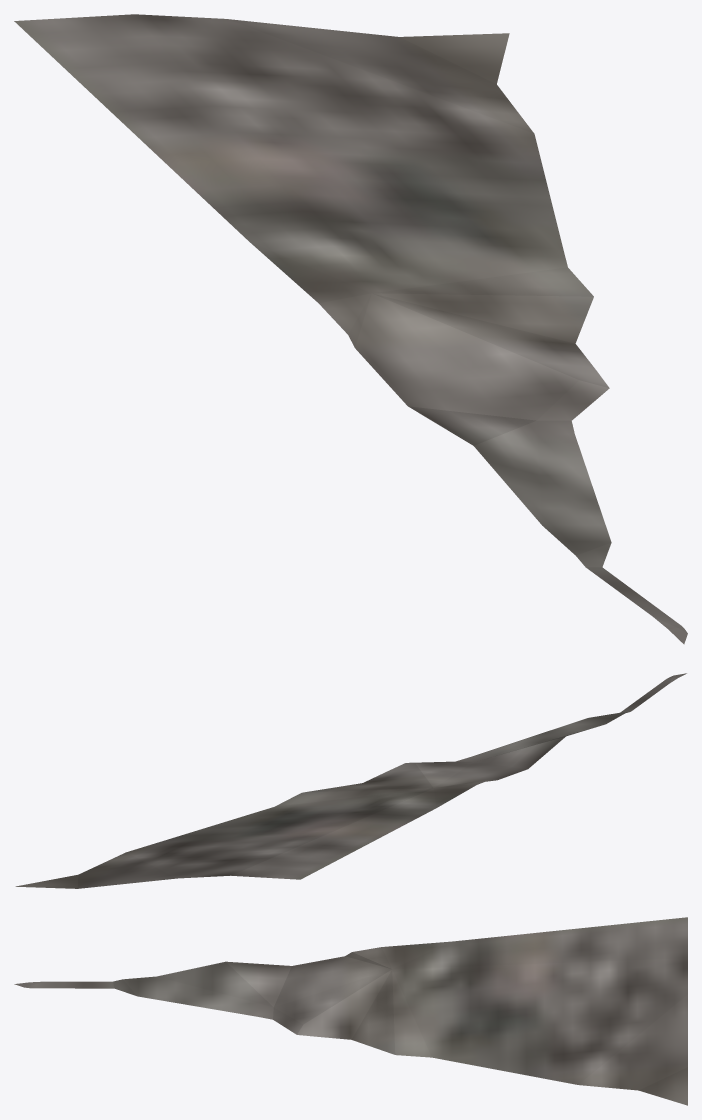
3 renders of one model, top to bottom at view 1: azimuth 30°, elevation 25°; view 2: azimuth 150°, elevation 25°; view 3: azimuth 270°, elevation 25°, orthographic. The views are drawn at different scales.
Size of the model in its own units: 0.0989 by 0.0254 by 0.2315.
Materials: 1 (1 with a texture image).
